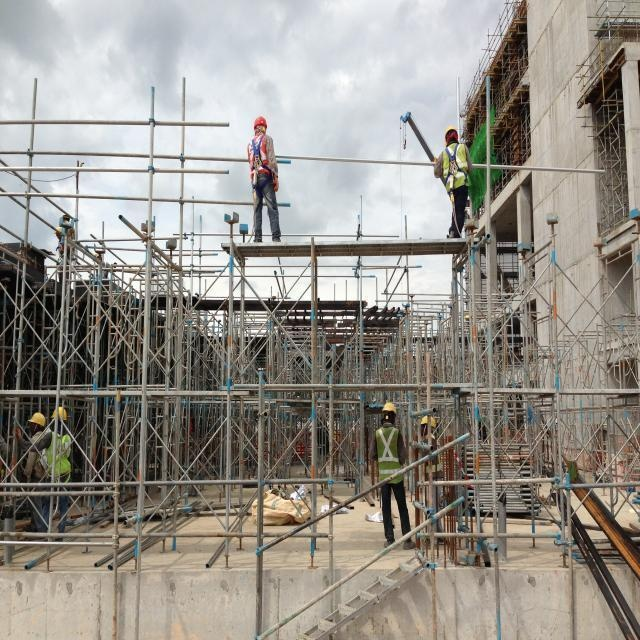Arnes_seguridad: (249, 131, 270, 180), (442, 142, 465, 185)
